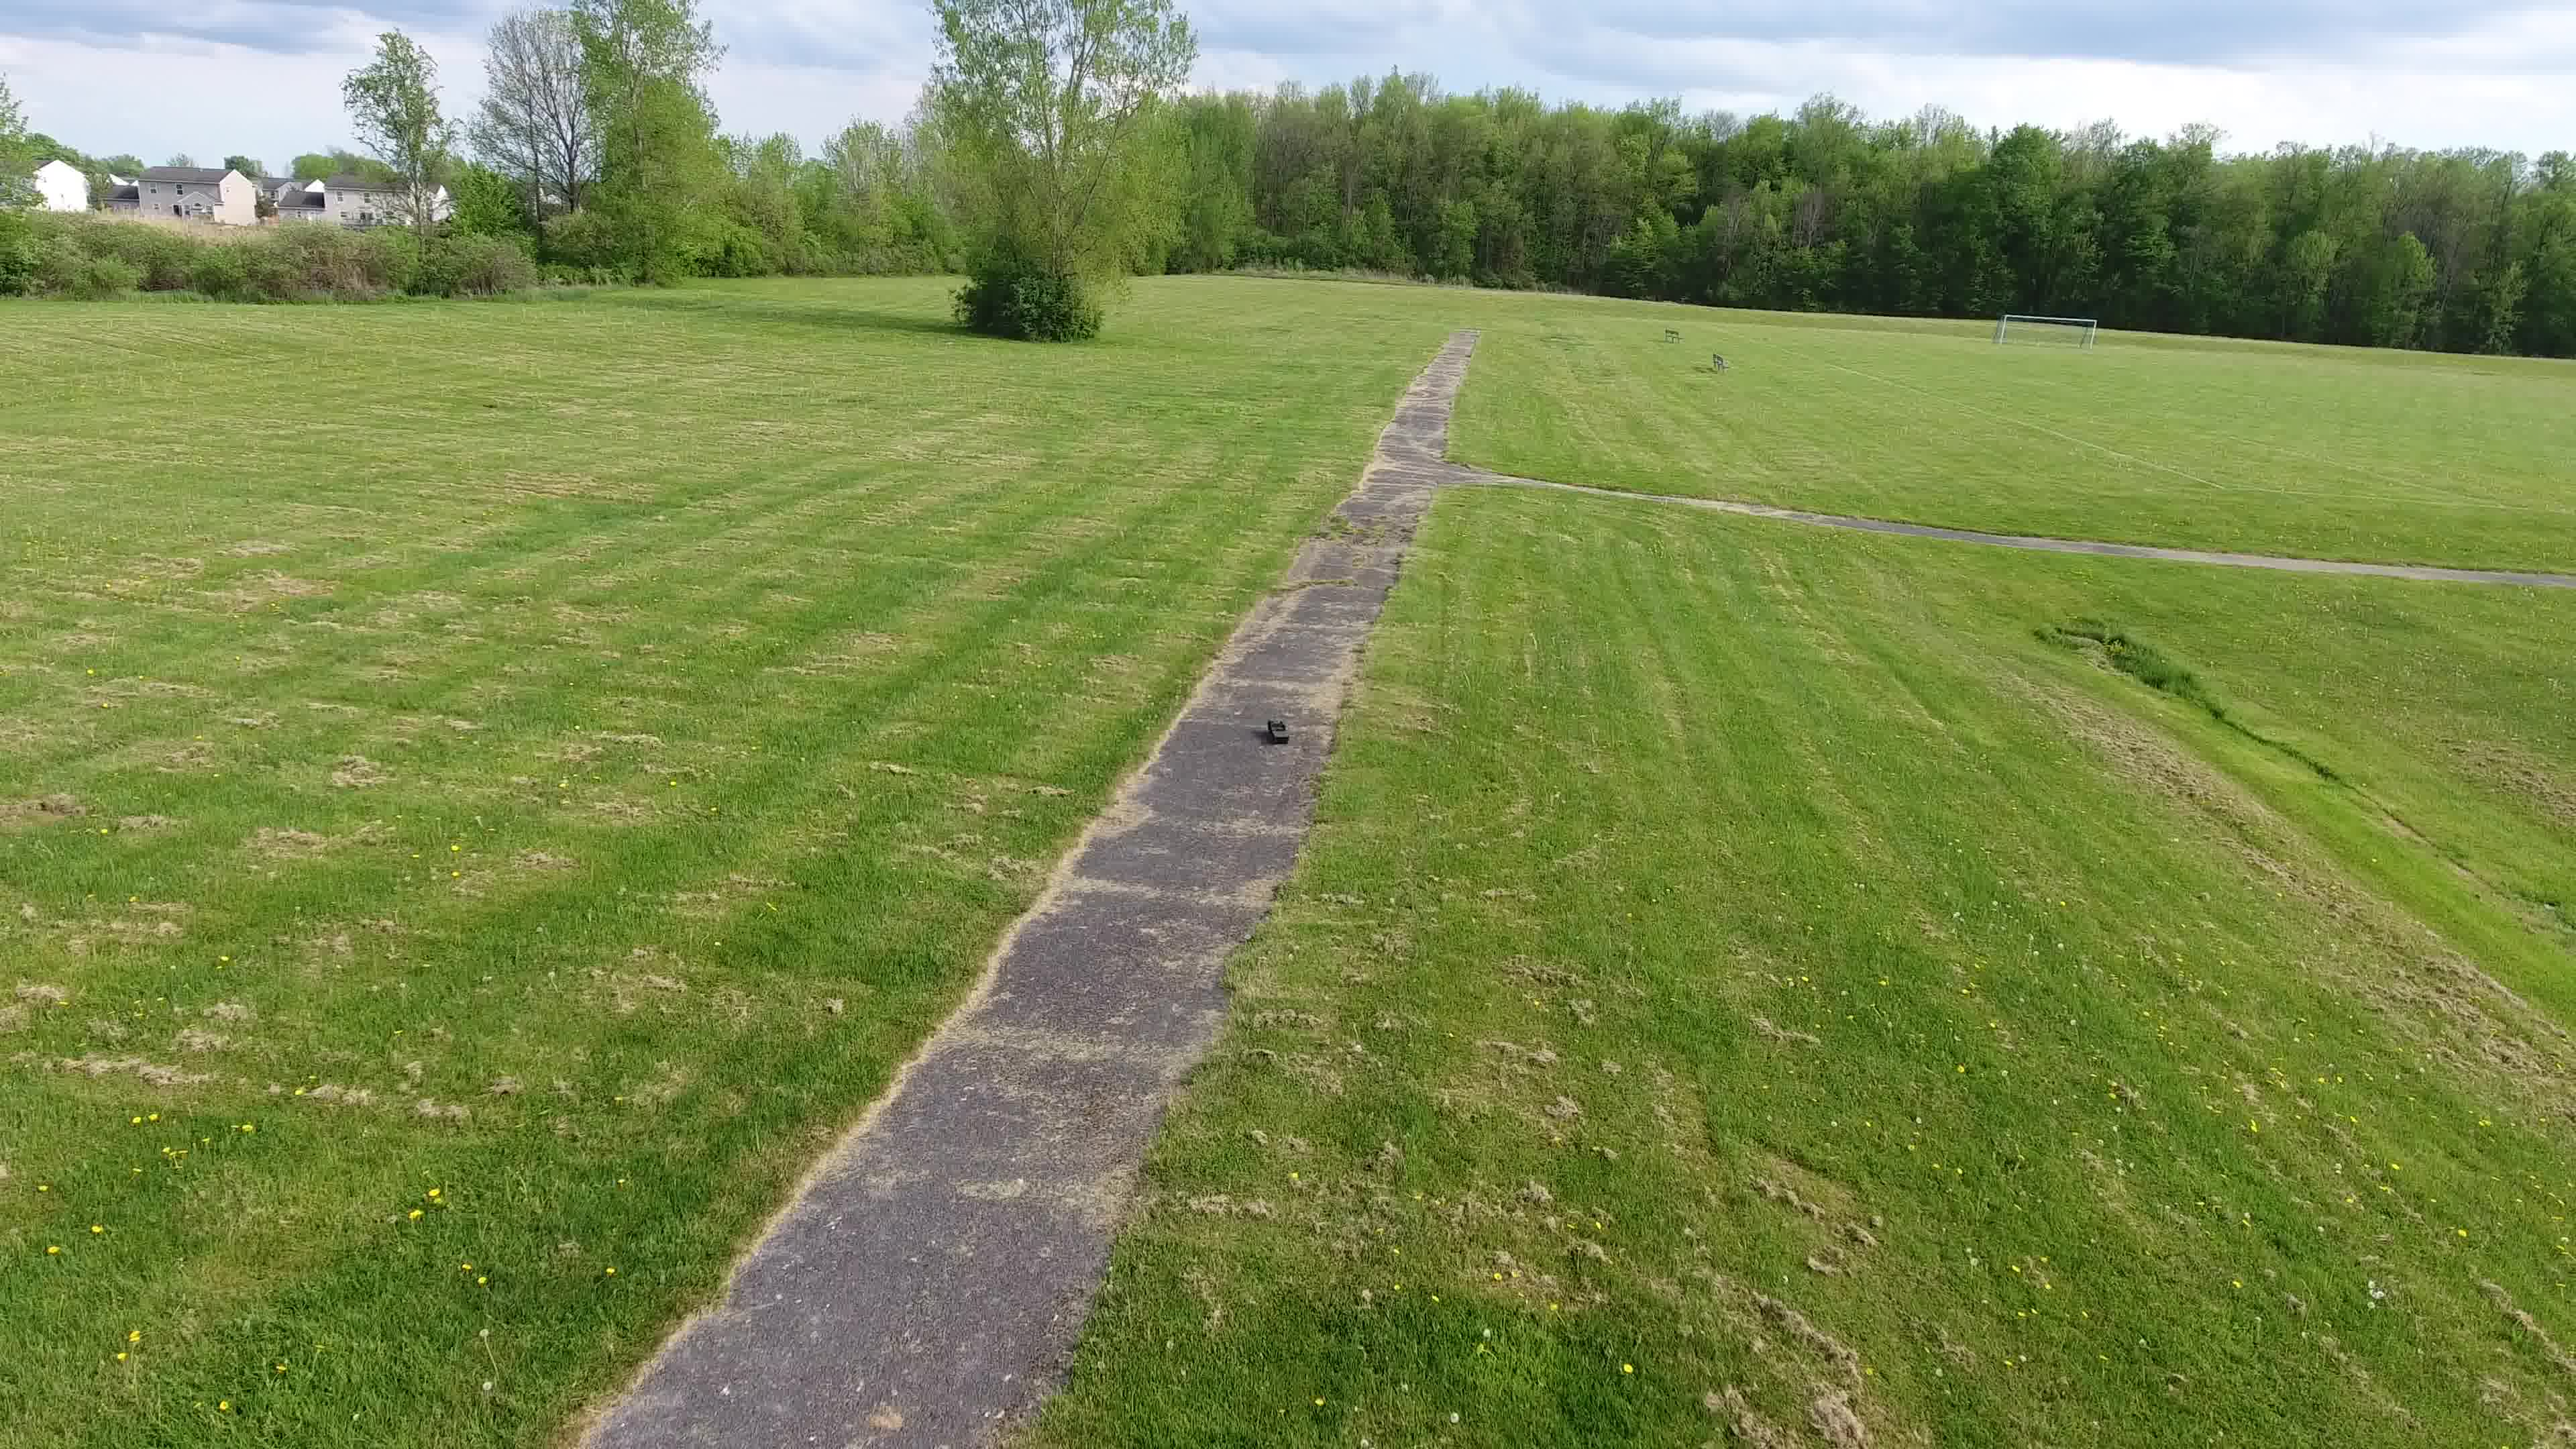transporter9_camo: (1265, 717, 1292, 743)
